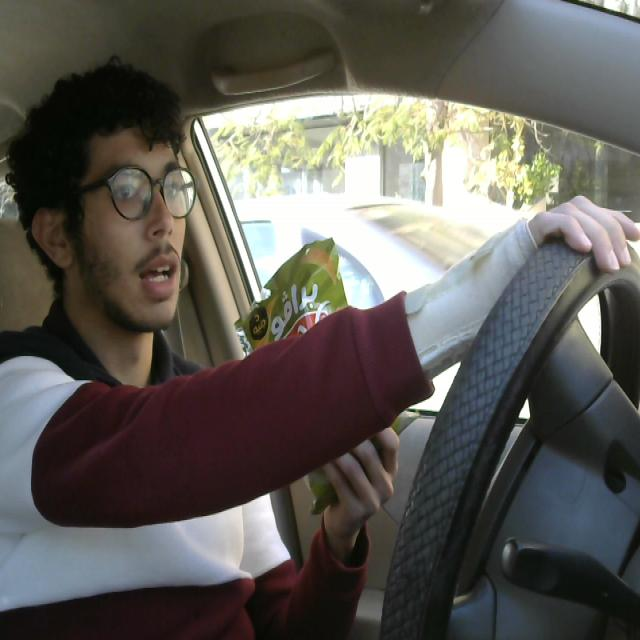eating: (235, 230, 424, 518)
